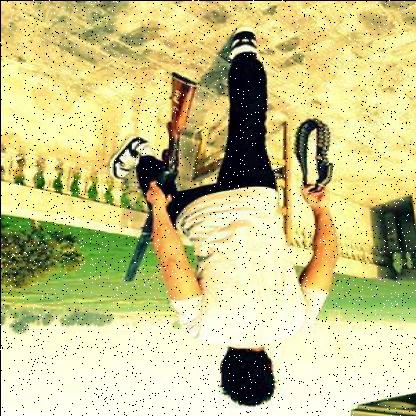rifle: (120, 68, 200, 284)
